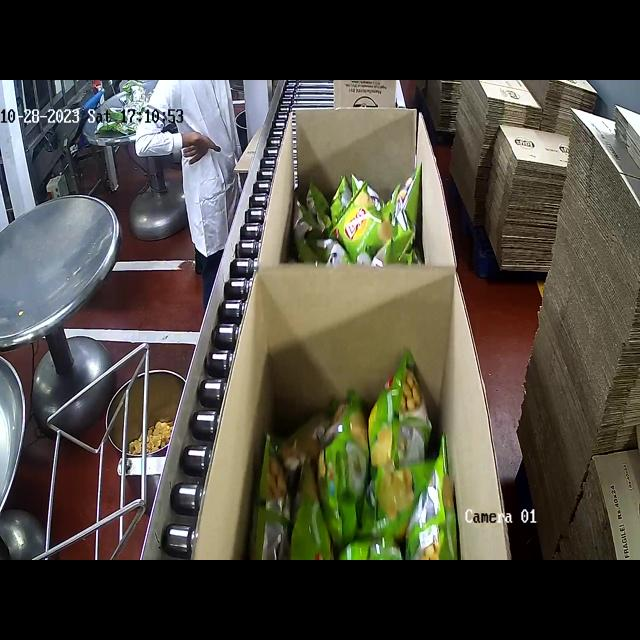yogurt: (254, 349, 458, 558), (292, 162, 423, 267)
